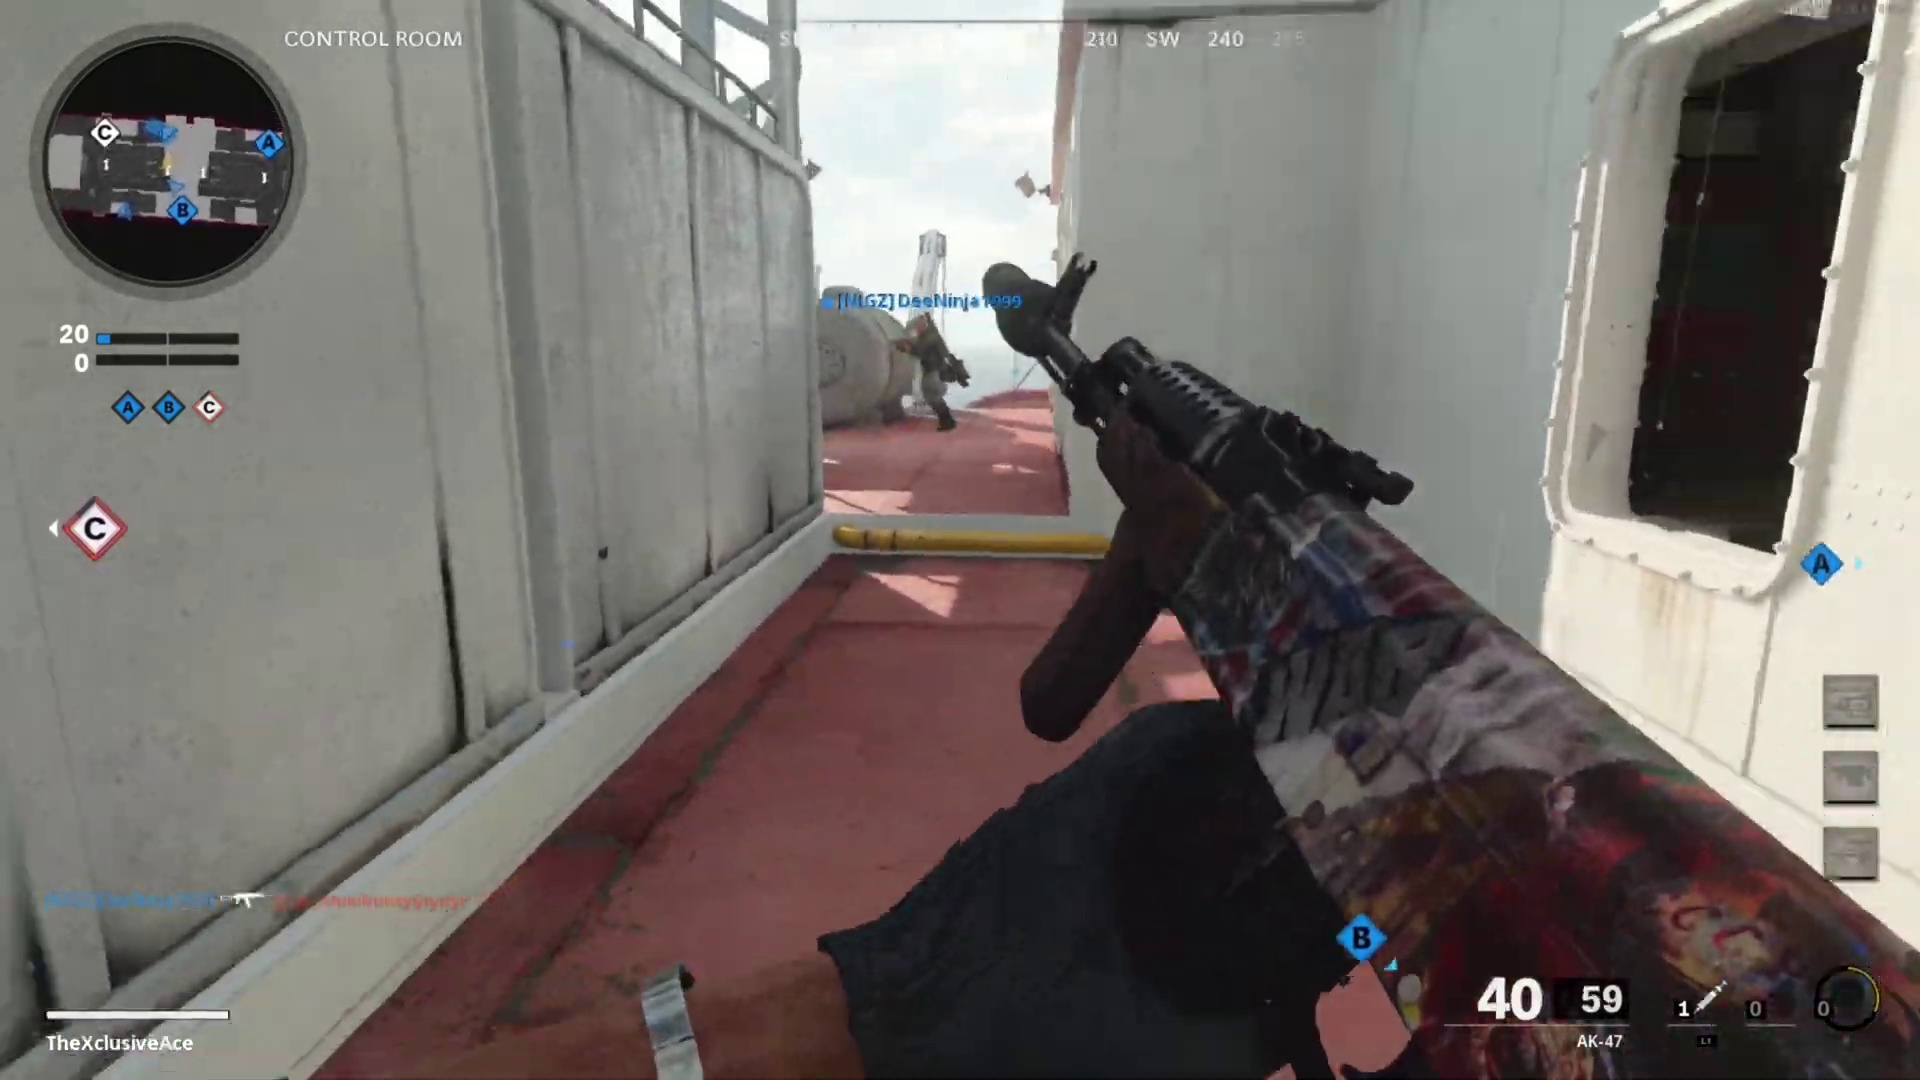head: (906, 311, 931, 339)
person: (896, 316, 962, 431)
